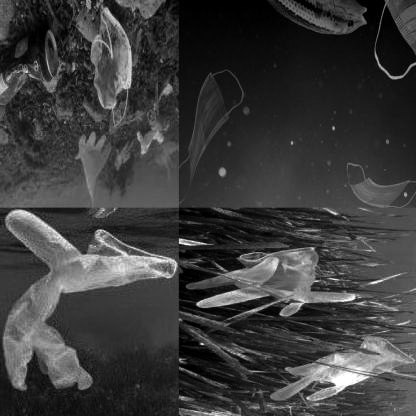Mask: (89, 10, 131, 126)
glove: (1, 209, 178, 395), (182, 244, 363, 317), (266, 335, 415, 403), (114, 138, 133, 174)
